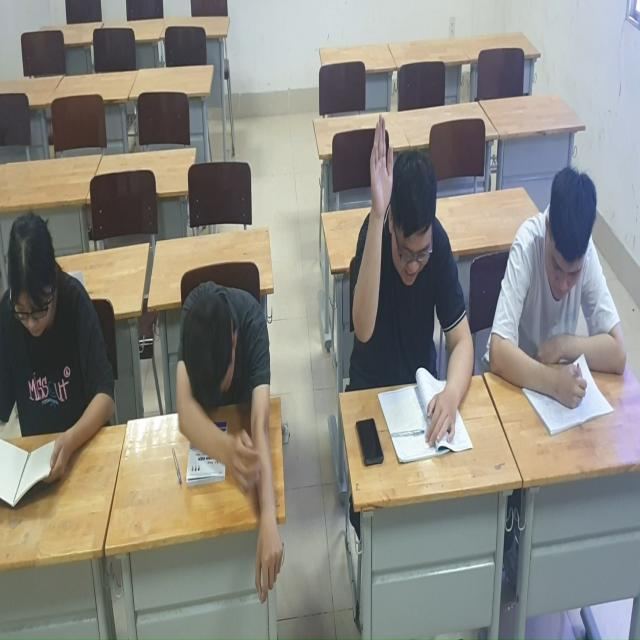sleep: (172, 287, 280, 598)
study: (352, 117, 472, 448), (492, 165, 622, 420), (0, 208, 108, 500)
